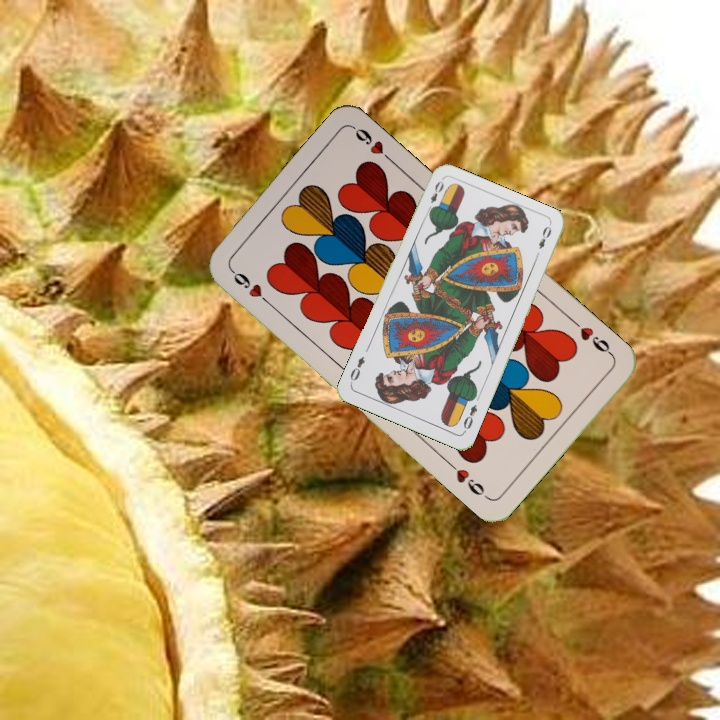EO: (423, 177, 446, 215), (459, 400, 480, 435)
H9: (568, 315, 616, 359), (226, 265, 274, 309)
